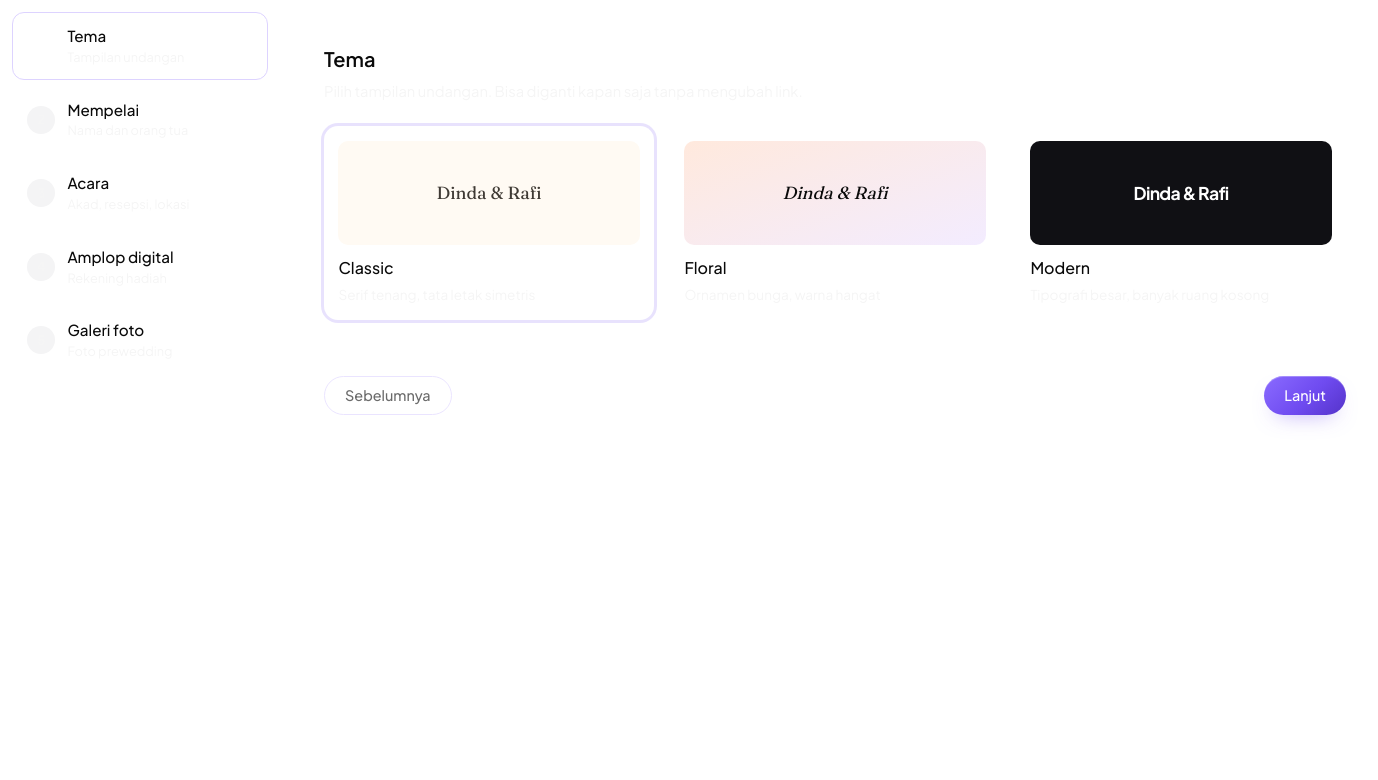
Test: BuilderWizard › reaches the last step (amplop) and clamps forward navigation, then shows the gallery step
This screenshot has width=1378, height=780.
Click the button "4 Amplop digital Rekening hadiah".
click(140, 267)  # box 12,233 -> 268,301
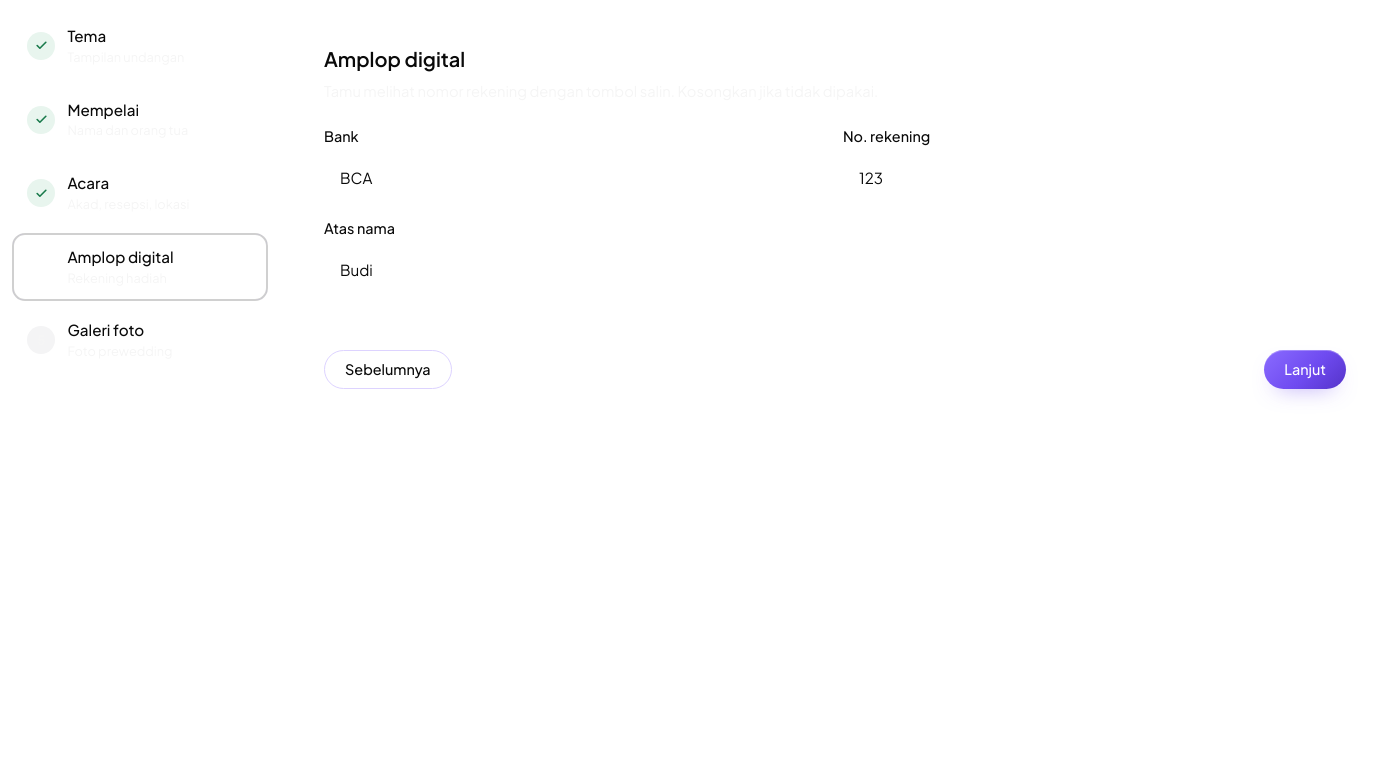
Expected: the heading "Amplop digital" is shown, 324,46 -> 465,71
Click the button "Lanjut".
click(1305, 369)  # box 1264,350 -> 1346,389
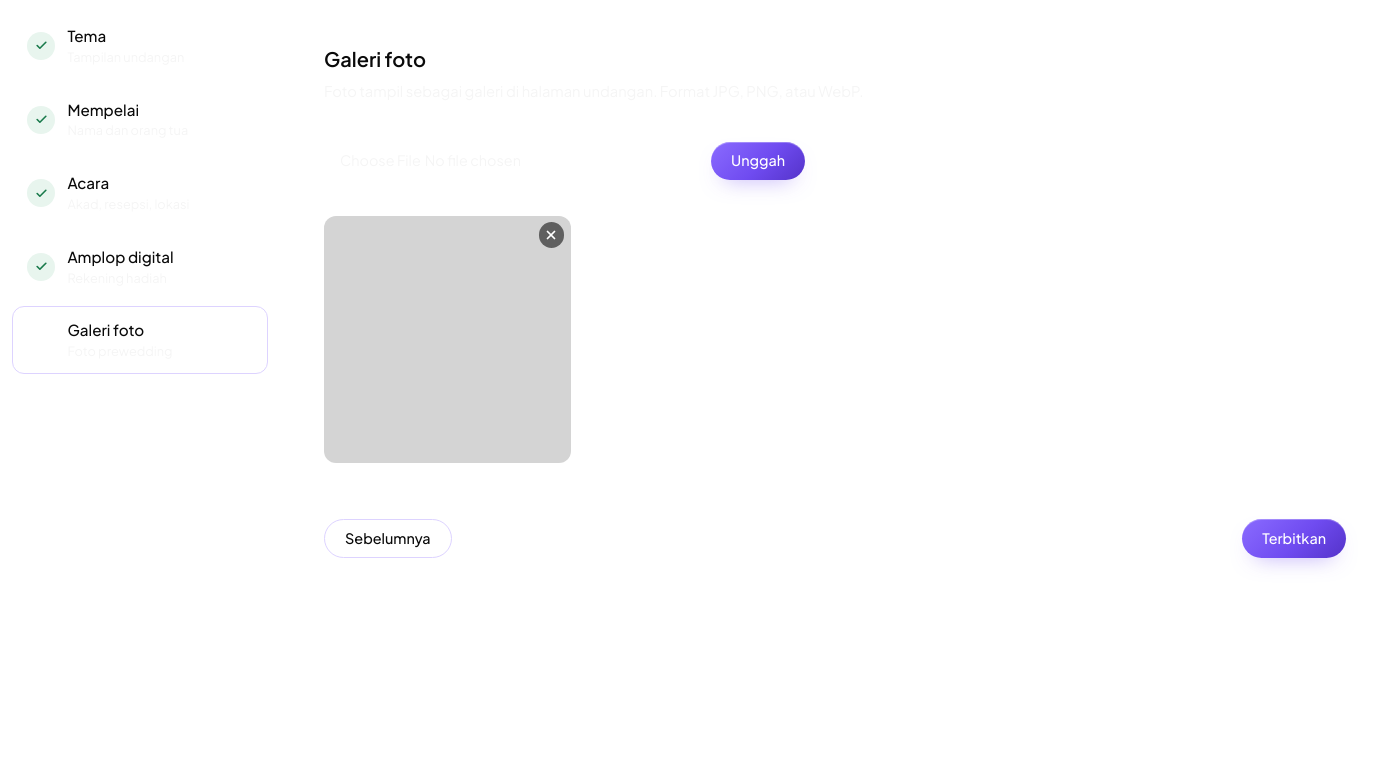
Expected: the heading "Galeri foto" is shown, 324,46 -> 426,71
Expected: the button "Lanjut" is gone
